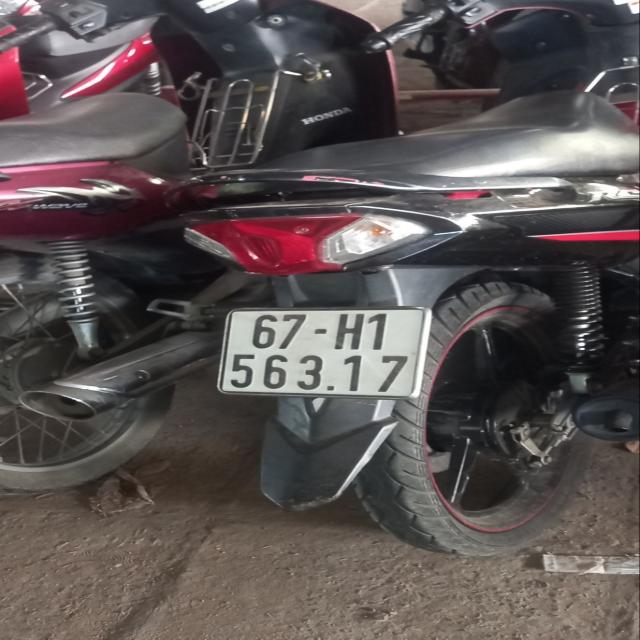1: (367, 313, 387, 350), (344, 355, 361, 392)
3: (297, 355, 322, 390)
5: (230, 354, 256, 389)
6: (263, 355, 288, 389), (253, 314, 277, 348)
7: (379, 355, 409, 393), (278, 314, 308, 349)
H: (334, 314, 364, 352)
